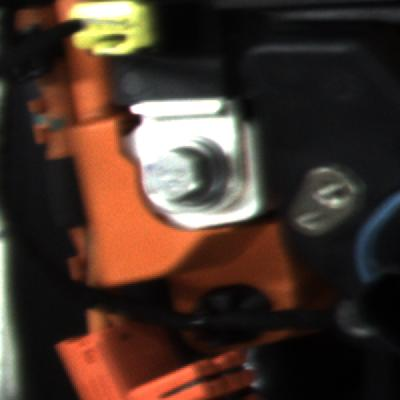nut_b: (137, 138, 235, 215)
